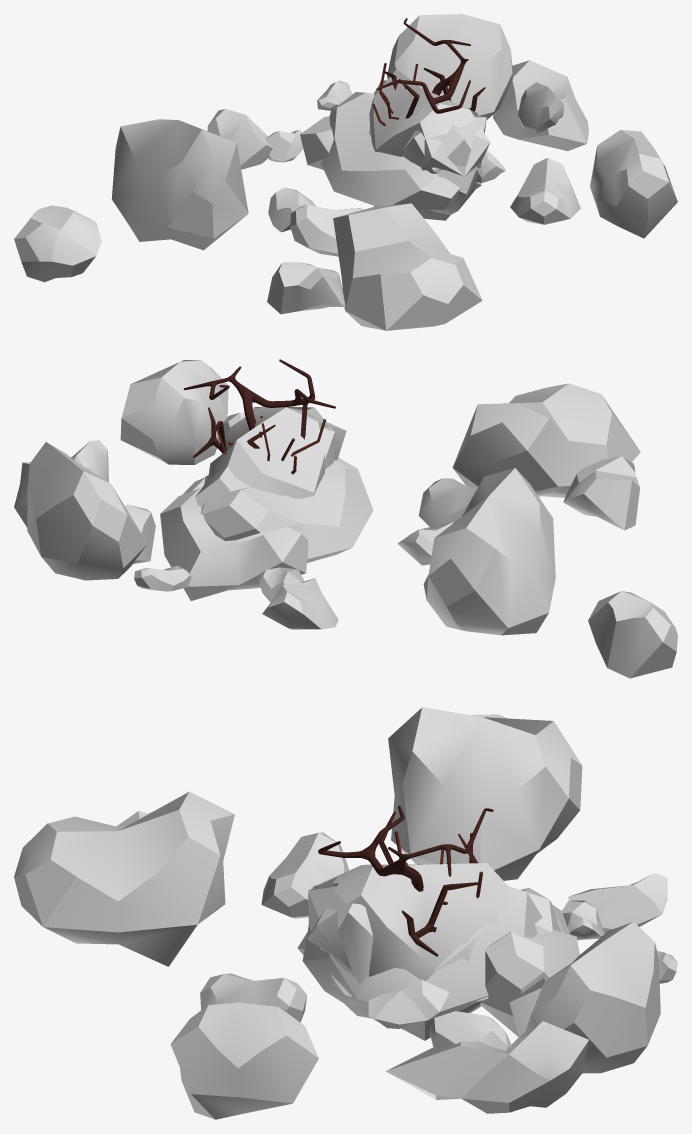
The model's file is Jinx__Nature_assets.glb.
The picture shows the model from 3 angles, top to bottom: view 1: azimuth 30°, elevation 25°; view 2: azimuth 150°, elevation 25°; view 3: azimuth 270°, elevation 25°; orthographic projection. The views are drawn at different scales.
Parts seen in each view (by area): view 1: some rocks 1, some rocks 2, g.rock 3, g.rock 1, bush 3, g.rock 2, bush 1; view 2: some rocks 1, some rocks 2, g.rock 3, bush 3, g.rock 2, bush 1, g.rock 1, bush 2; view 3: some rocks 1, some rocks 2, g.rock 3, g.rock 2, g.rock 1, bush 3, bush 1.
Boxes of the visible parts, box(x1,y1,x2,y2) form: some rocks 1: box(14, 60, 677, 330); some rocks 2: box(207, 14, 580, 256); g.rock 3: box(369, 69, 490, 176); g.rock 1: box(369, 115, 486, 220); bush 3: box(376, 18, 470, 113); g.rock 2: box(374, 80, 482, 214); bush 1: box(384, 68, 485, 118); some rocks 1: box(14, 360, 677, 678); some rocks 2: box(27, 412, 477, 629); g.rock 3: box(208, 406, 346, 498); bush 3: box(183, 359, 335, 430); g.rock 2: box(195, 466, 249, 507); bush 1: box(193, 393, 313, 457); g.rock 1: box(204, 407, 335, 561); bush 2: box(217, 416, 325, 474); some rocks 1: box(14, 707, 604, 1119); some rocks 2: box(200, 832, 677, 1073); g.rock 3: box(307, 863, 507, 981); g.rock 2: box(302, 886, 542, 1019); g.rock 1: box(308, 877, 487, 1040); bush 3: box(318, 805, 493, 891); bush 1: box(379, 811, 479, 956).
Bounding box in the file's own units: 6.15 × 1.8 × 4.77.
